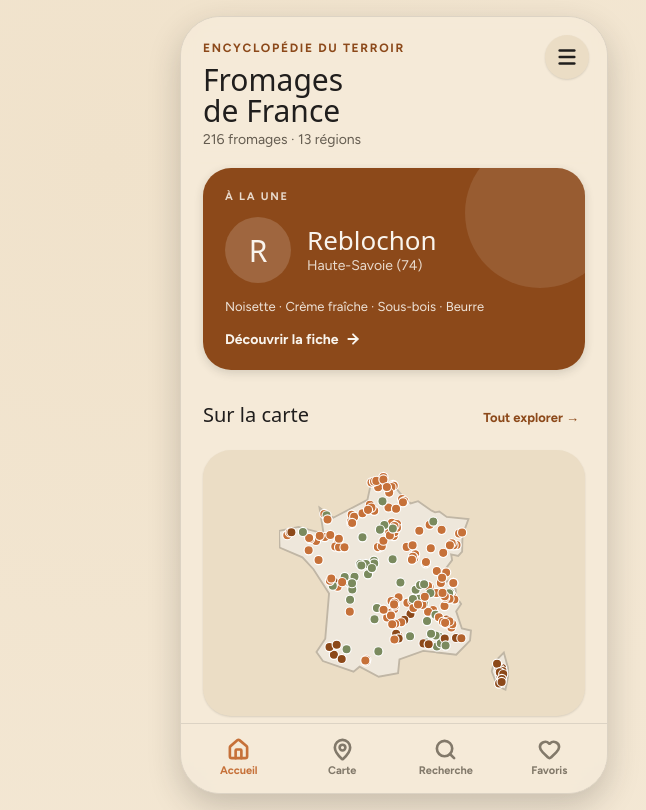
Test: Accès aux mentions légales depuis le menu › affiche l'identité de l'éditeur
Click the button named "Ouvrir le menu". click: click(567, 57)
box: [545,35,589,79]
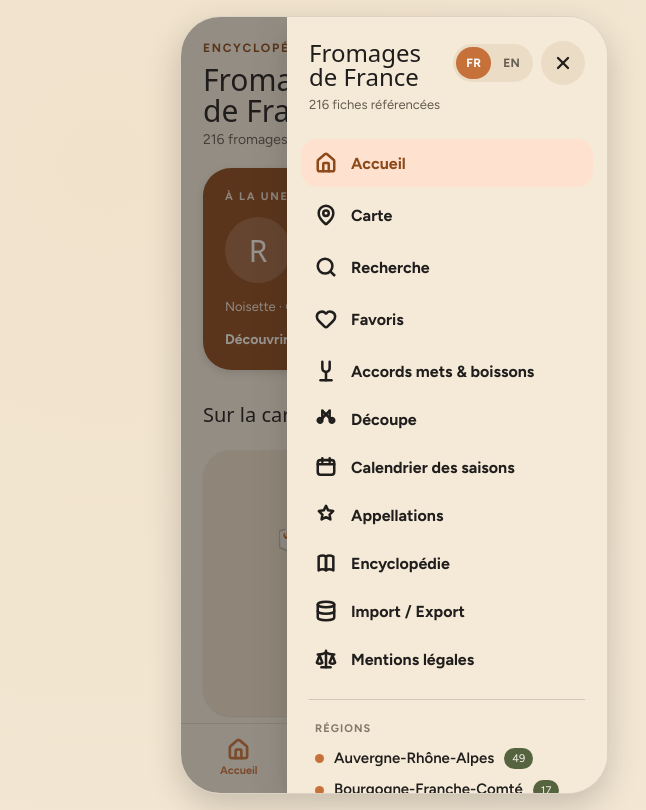
Click the button "Mentions légales". click: click(447, 659)
box: [301,635,593,683]
(page scrolled)
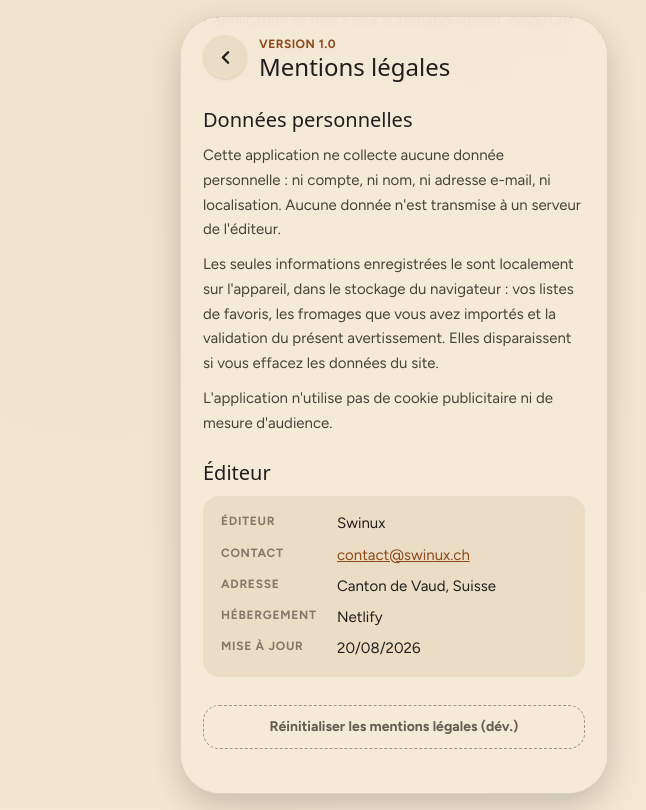
Expected: the text "Swinux" is shown, [337,512,385,536]
Expected: the text "Canton de Vaud, Suisse" is shown, [337,575,496,598]
